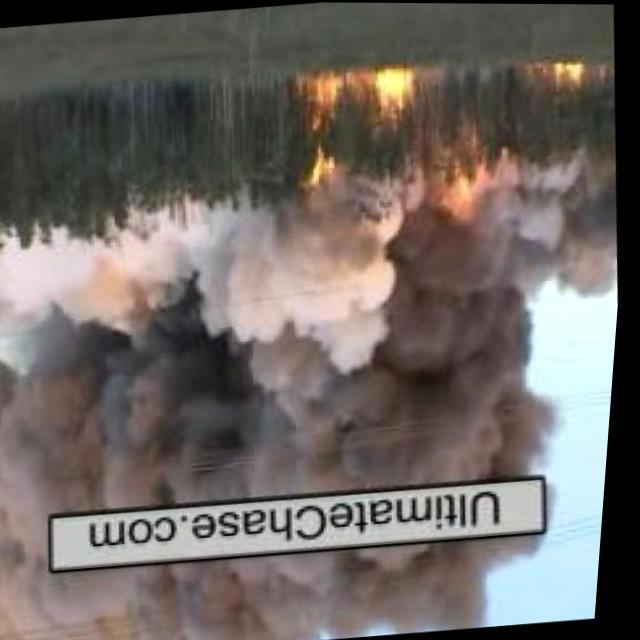fire: (288, 61, 424, 181), (434, 151, 498, 239), (537, 60, 583, 88)
